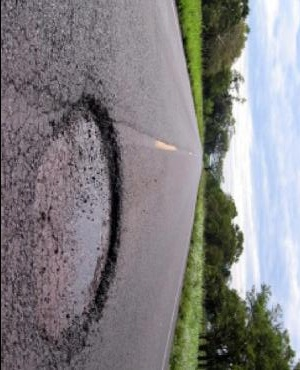pothole: (17, 90, 125, 365)
